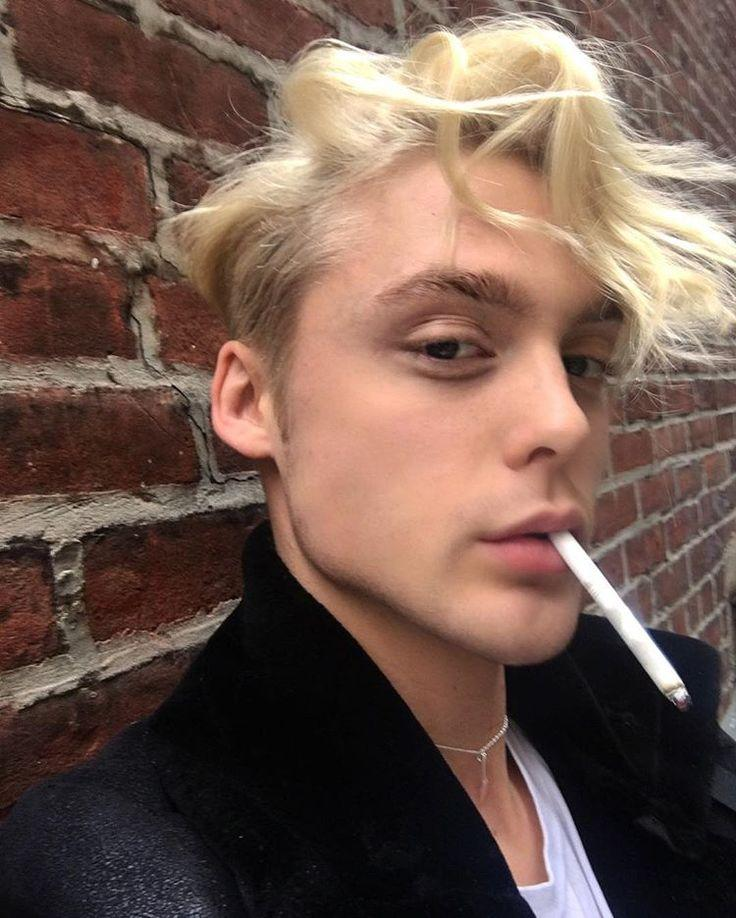cigarette: (547, 528, 692, 712)
